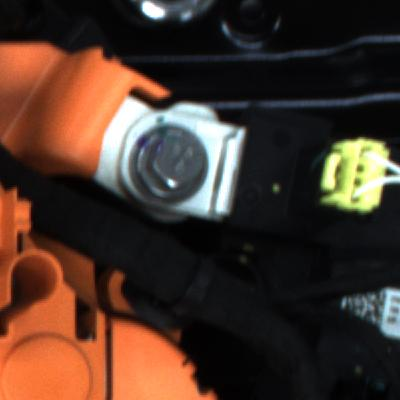nut_b: (118, 113, 220, 210)
